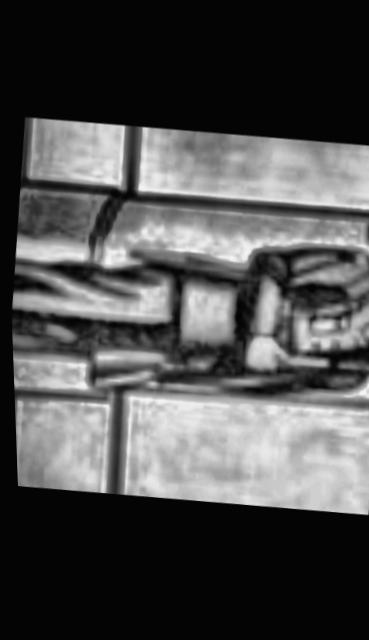El Soldado: (3, 111, 369, 522)
